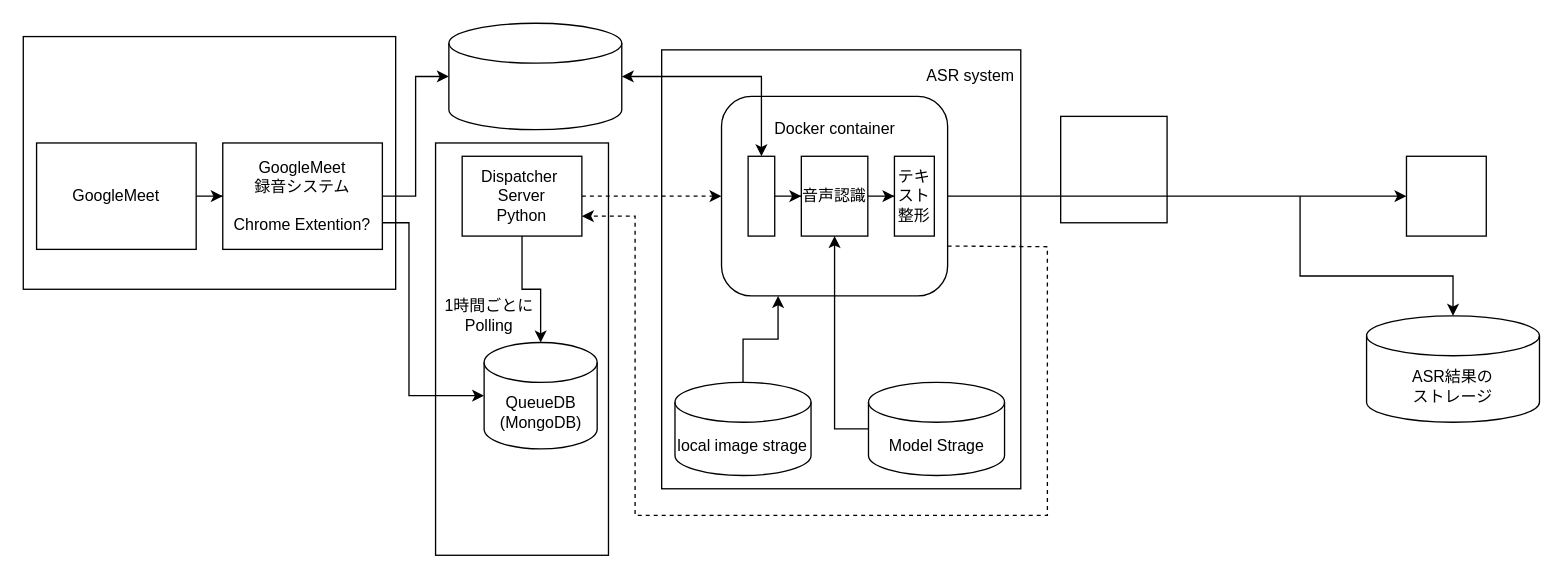
The diagram is 1563 pixels wide and 579 high, and some of its shapes have lost their labels. The centre of each missing label's shape, as x and y in pixels:
Outline API: the point at 1445,195
クッション サーバー: the point at 1113,169
音声ストレージ: the point at 535,76
音声分割: the point at 761,195
